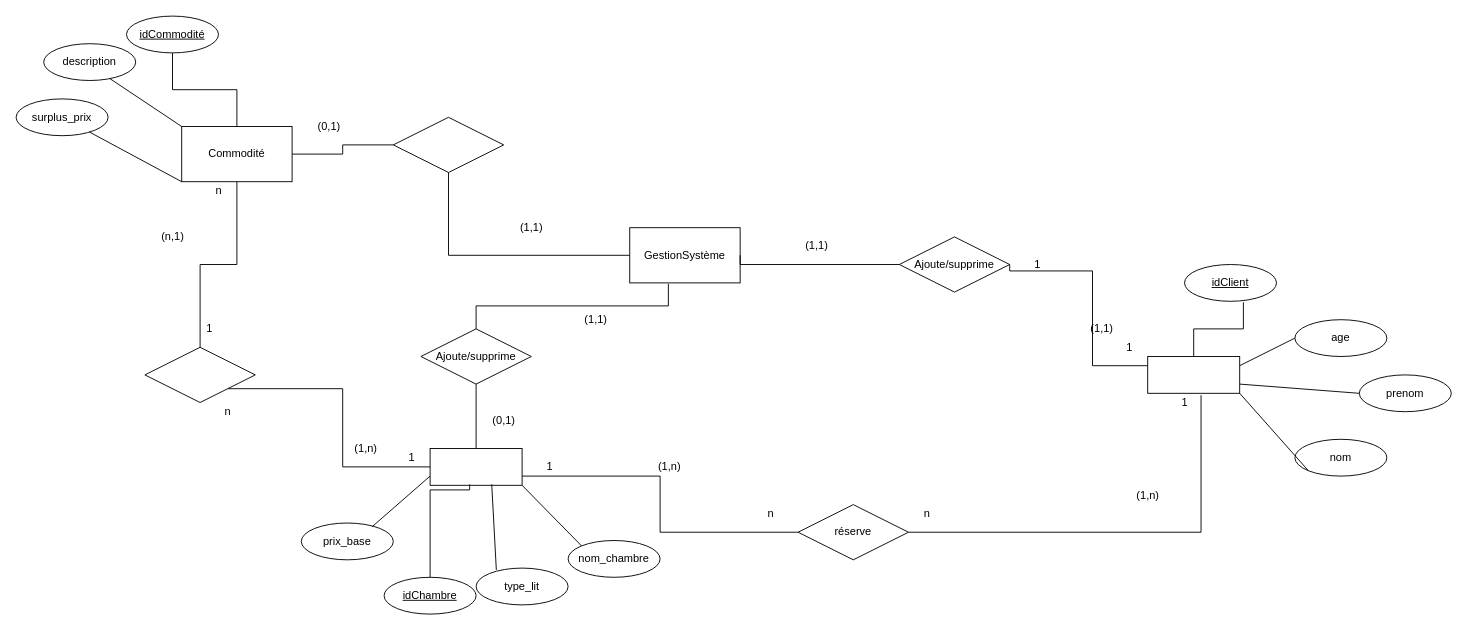
Image size: 1467x630. Some labels were removed from this diagram. The box of each missing label's shape, as (x1, y1, x2, y2) in pixels:
Ajoute: (392, 116, 504, 172)
Chambre: (429, 448, 522, 485)
Client: (1147, 356, 1240, 393)
Enlever/inclure: (144, 346, 255, 402)
